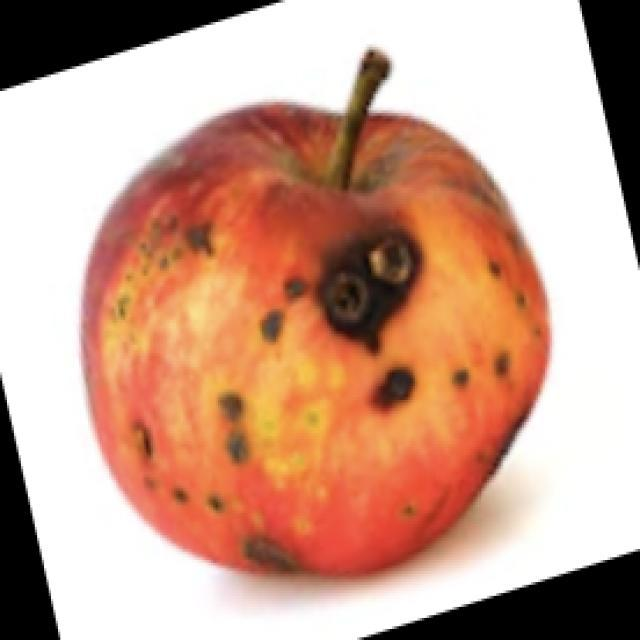Rotten: (70, 97, 543, 580)
